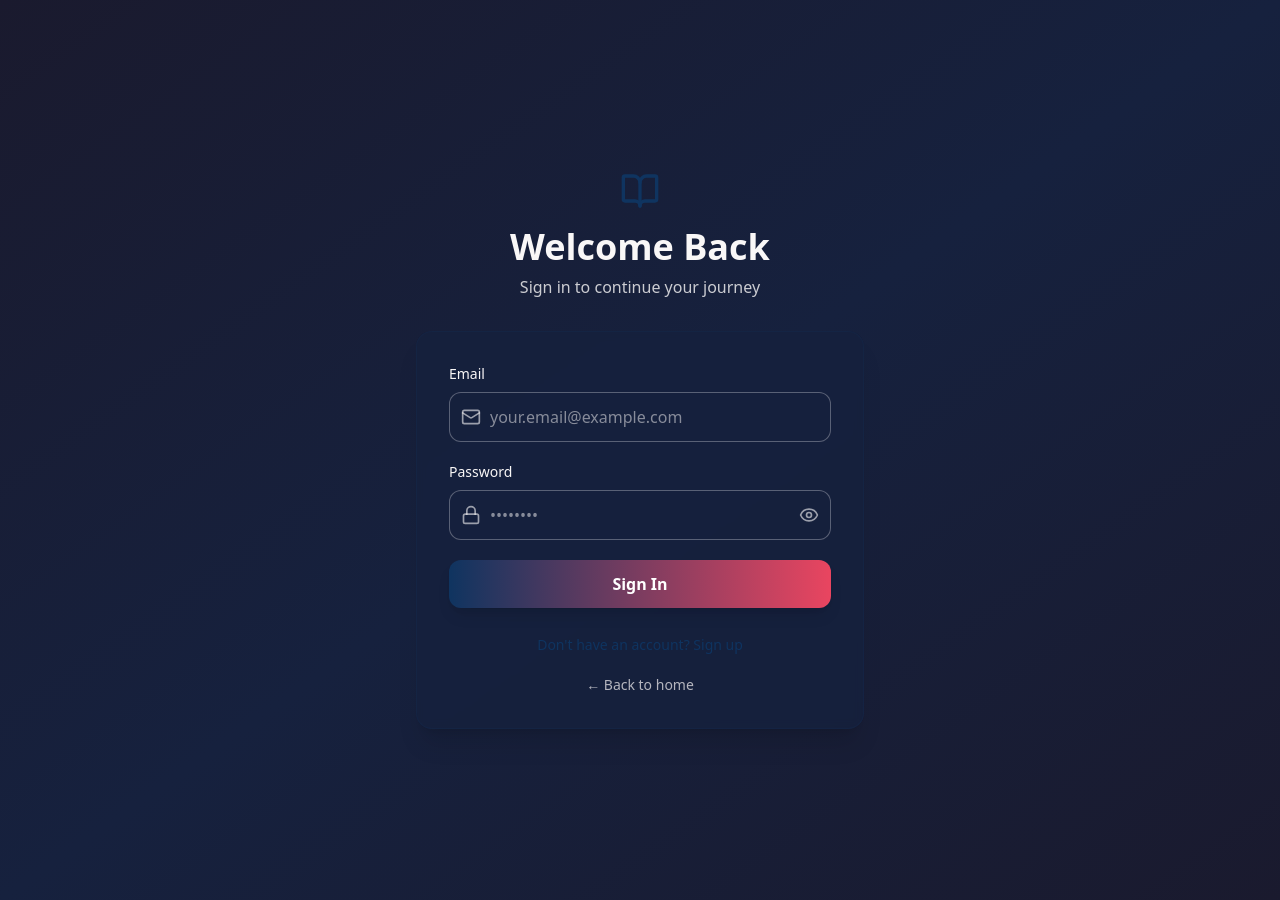
Test: Register Flow › should show register form when register button is clicked
Click the button "Don't have an account? Sign up" at [640, 645], box left=537, top=635, right=743, bottom=655
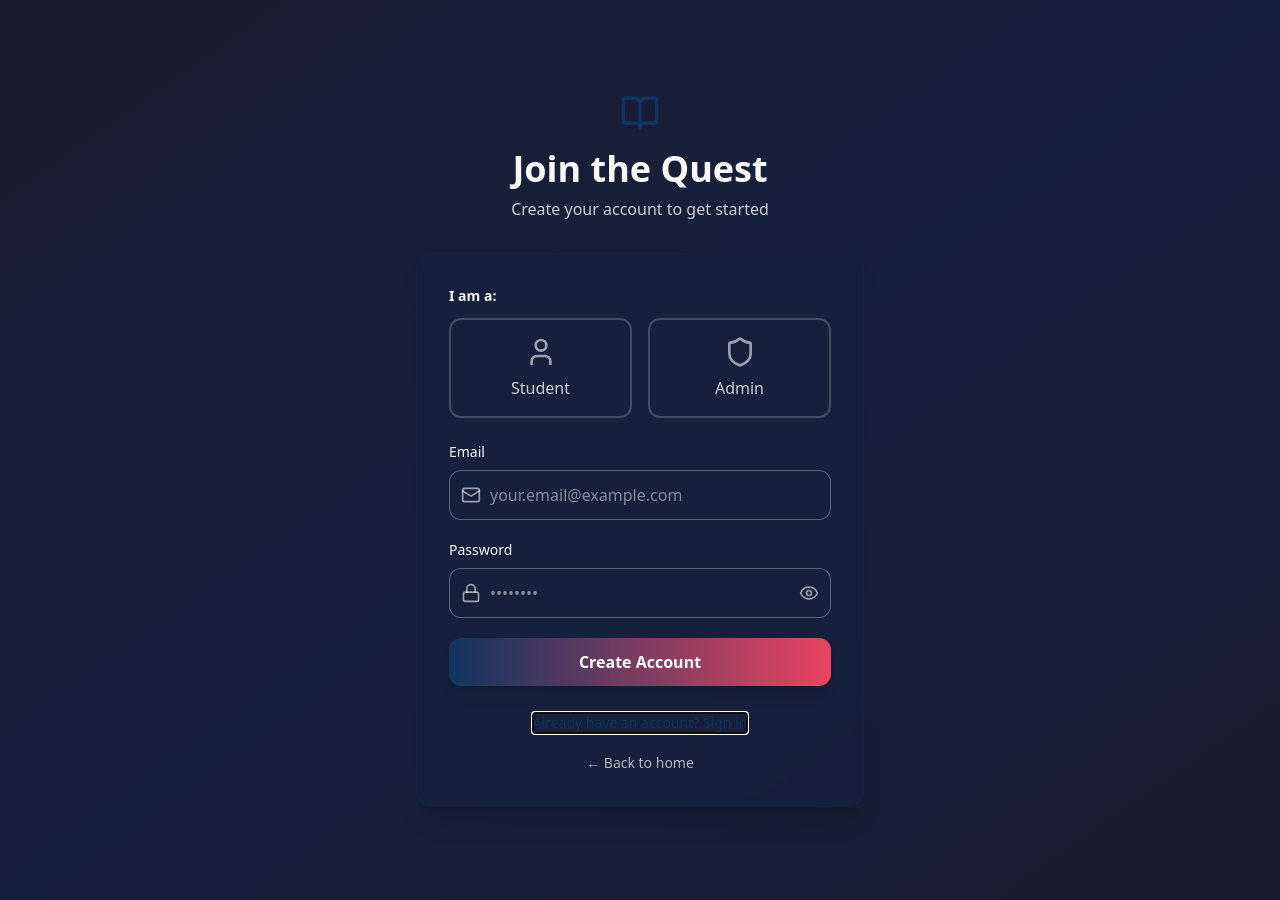
Result: the heading "Join the Quest" is shown at left=512, top=144, right=768, bottom=193
